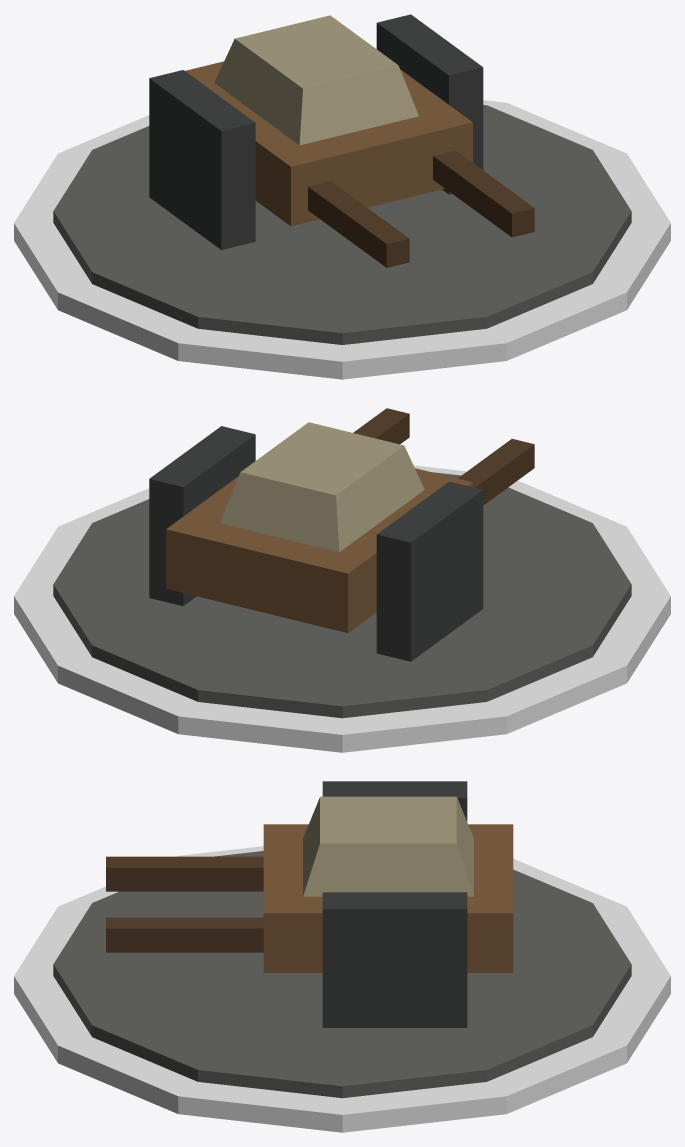
Rendered from vehicle_token_t0.glb.
3 renders of one model, top to bottom at view 1: azimuth 30°, elevation 25°; view 2: azimuth 150°, elevation 25°; view 3: azimuth 270°, elevation 25°, orthographic.
Parts seen in each view (by area): view 1: vehicle_token_t0; view 2: vehicle_token_t0; view 3: vehicle_token_t0.
Boxes of the visible parts, left/top/right/bottom form: vehicle_token_t0: left=14, top=14, right=670, bottom=379; vehicle_token_t0: left=14, top=408, right=670, bottom=752; vehicle_token_t0: left=14, top=781, right=670, bottom=1132.
Bounding box in the file's own units: 1 × 0.29 × 1.
